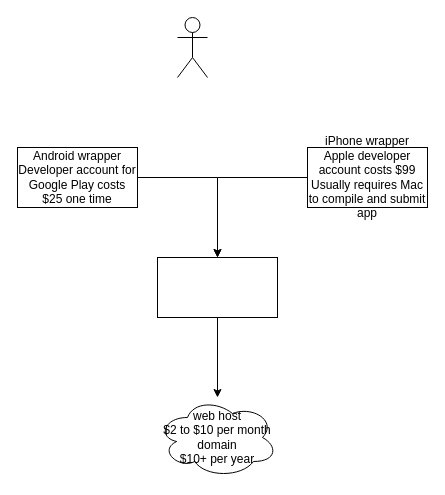
The diagram is 445 pixels wide and 495 high, and some of its shapes have lost their labels. Here are the shapes that lost their labels. From the top down, the centre of each, then its label:
At (x=192, y=47): "User".
At (x=217, y=287): "Web app HTML/CSS/JS front PHP/Linux/MySQL/Postgres back".
